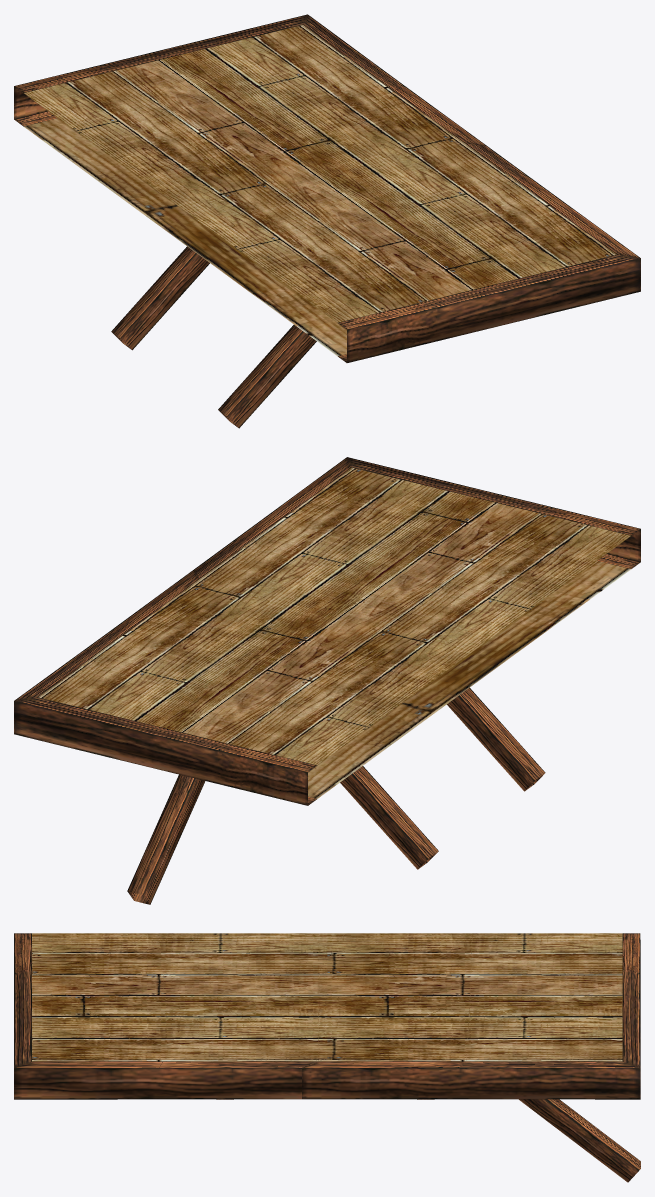
The model's file is LAKETOWN_WAREHOUSE2_PS_WH2_PLAT46352__GX.fbx.
3 renders of one model, top to bottom at view 1: azimuth 30°, elevation 25°; view 2: azimuth 150°, elevation 25°; view 3: azimuth 270°, elevation 25°, orthographic. The views are drawn at different scales.
Parts seen in each view (by area): view 1: LAKETOWN_WAREHOUSE2_PS_WH2_PLAT46352__GX; view 2: LAKETOWN_WAREHOUSE2_PS_WH2_PLAT46352__GX; view 3: LAKETOWN_WAREHOUSE2_PS_WH2_PLAT46352__GX.
Boxes of the visible parts, x1=… form: LAKETOWN_WAREHOUSE2_PS_WH2_PLAT46352__GX: x1=14, y1=14, x2=640, y2=428; LAKETOWN_WAREHOUSE2_PS_WH2_PLAT46352__GX: x1=14, y1=457, x2=640, y2=904; LAKETOWN_WAREHOUSE2_PS_WH2_PLAT46352__GX: x1=14, y1=933, x2=640, y2=1182.
Bounding box in the file's own units: 32827 × 18167 × 61903.
2 materials, 2 textured.
